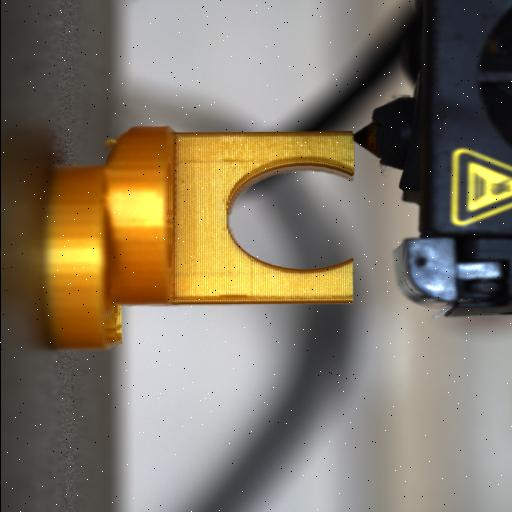layer_shift: (92, 130, 126, 352)
